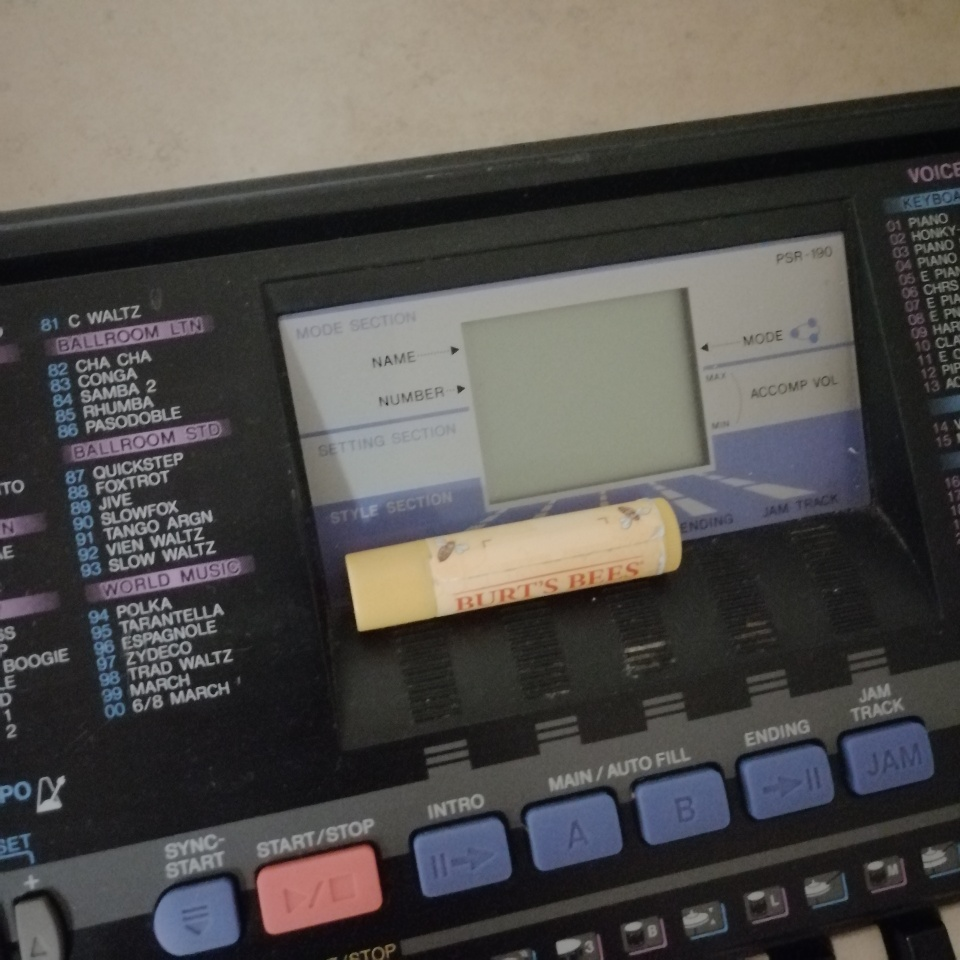chapstick: (343, 494, 685, 633)
